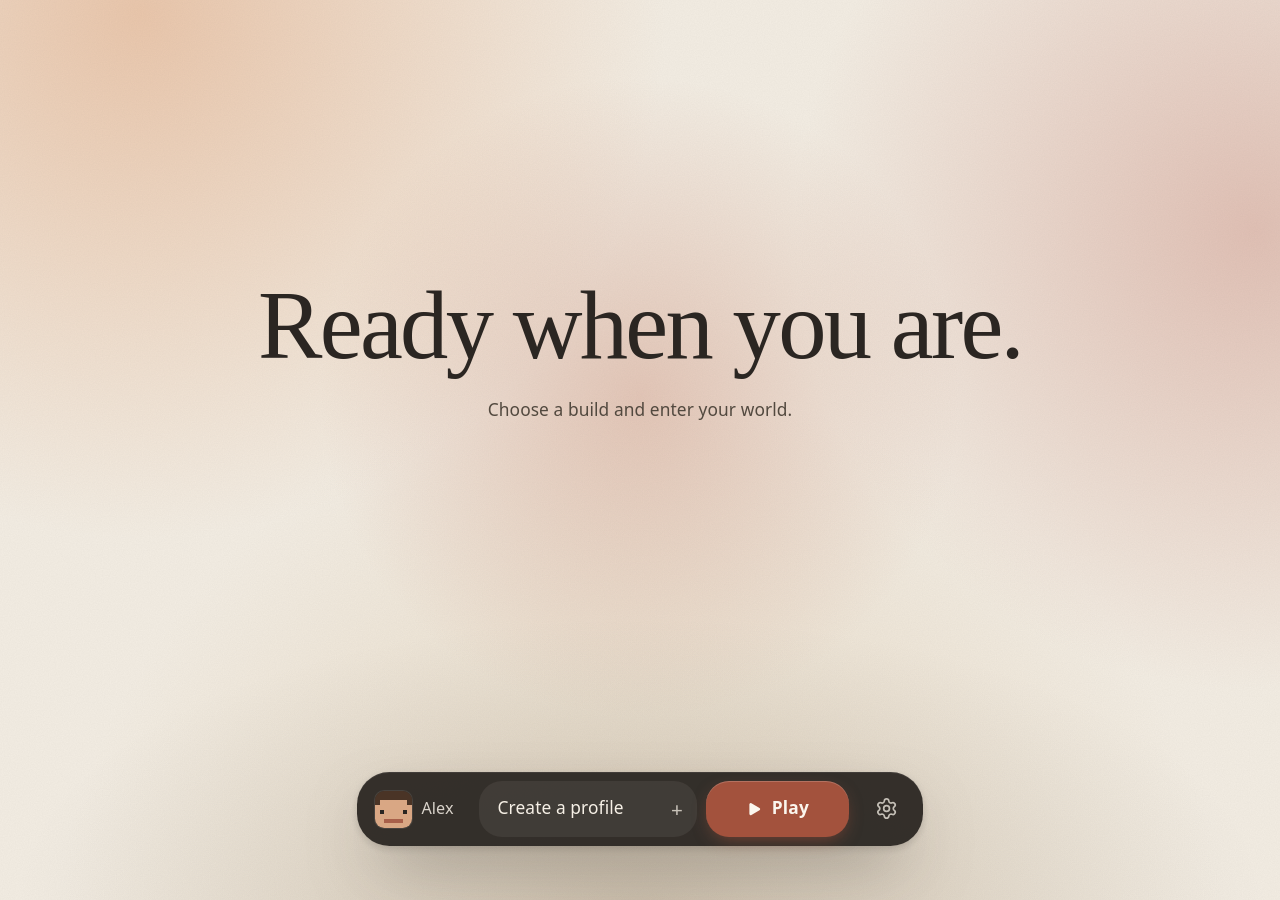
it: account menu in the dock › shows the active account and lists every account, ending with Add account
Click the button "Alex".
click(418, 809)  # box top-left (366, 781), bottom-right (470, 837)
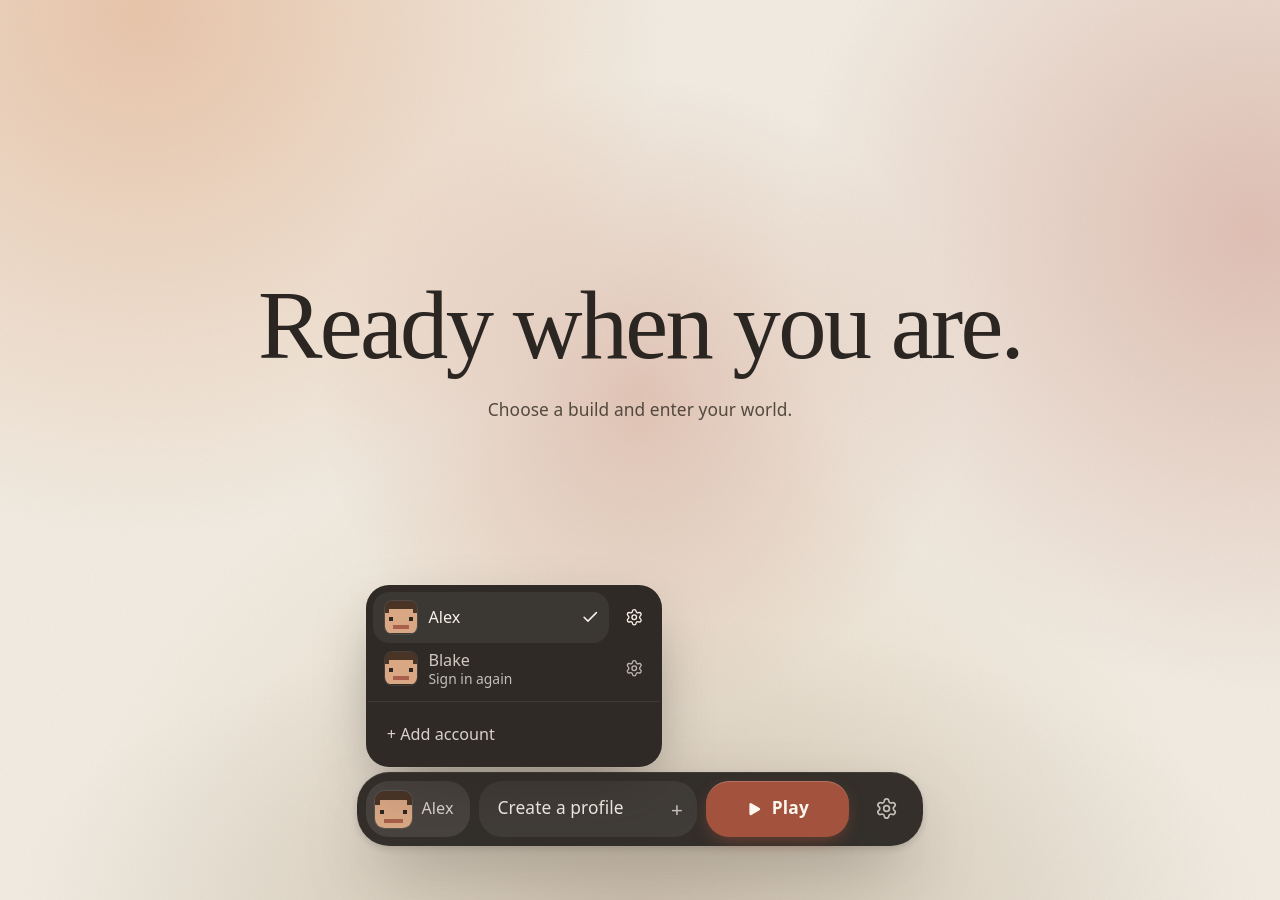
Now the menu is shown, box top-left (366, 585), bottom-right (662, 767)
Now the menu item "Blake Sign in again" is shown, box top-left (384, 649), bottom-right (512, 688)
Now the menu item named "Manage Alex" is shown, box top-left (625, 608), bottom-right (644, 627)
